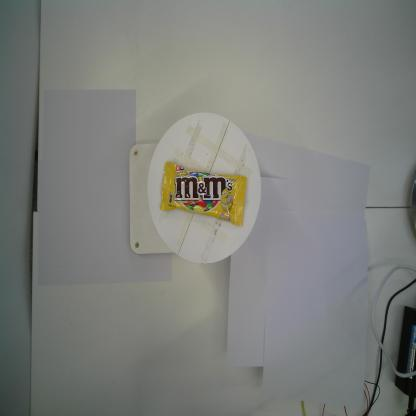Chocolate: (160, 162, 247, 228)
